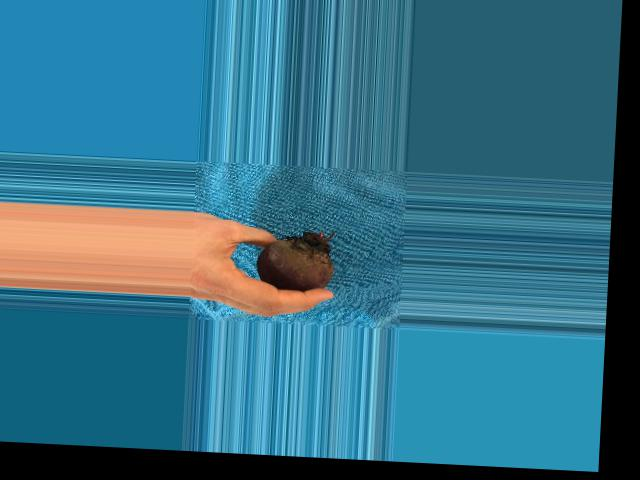beet: (256, 227, 335, 292)
